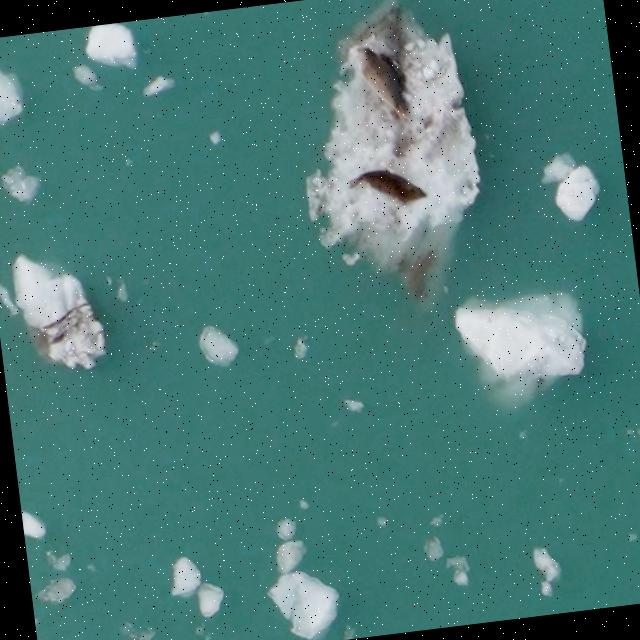seal: (346, 36, 423, 123), (344, 158, 431, 210)
